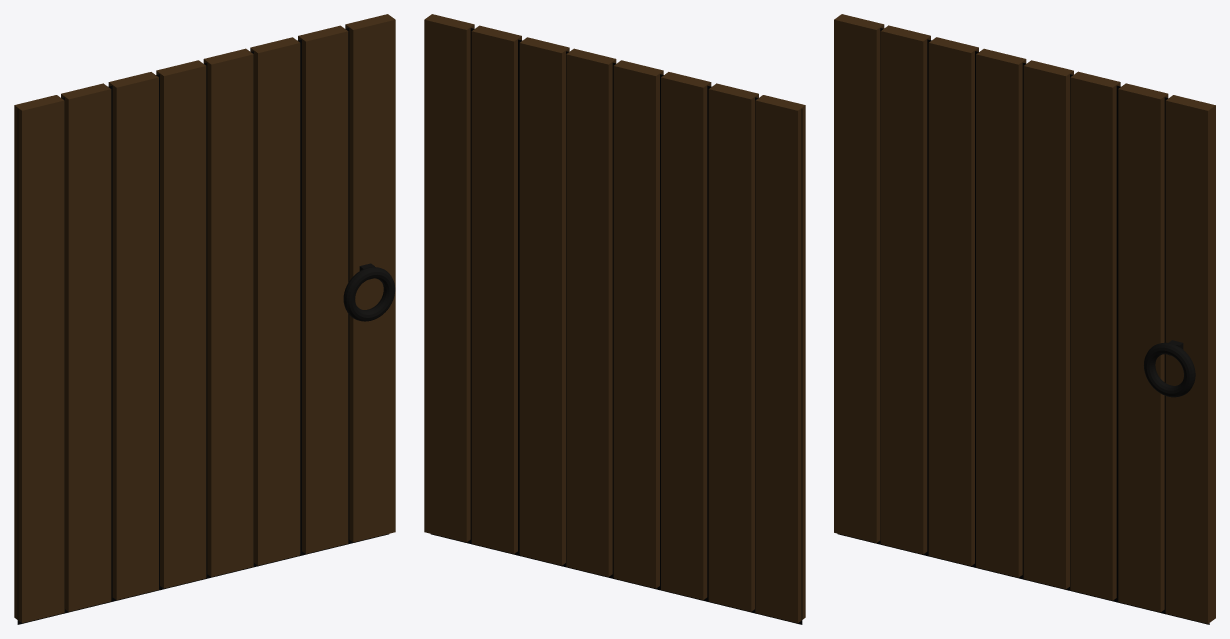
The model's file is Door.fbx.
The picture shows the model from 3 angles, left to right: view 1: azimuth 30°, elevation 25°; view 2: azimuth 150°, elevation 25°; view 3: azimuth 330°, elevation 25°; orthographic projection.
Parts seen in each view (by area): view 1: Cube.015, Cube, Cube.013, Cube.008, Cube.009, Cube.012, Cube.014, Cube.010, Cube.007, Cube.001, Cube.002, Cube.003 (+6 smaller); view 2: Cube.015, Cube, Cube.011, Cube.013, Cube.008, Cube.012, Cube.009, Cube.010, Cube.014, Cube.007, Cube.001, Cube.003 (+5 smaller); view 3: Cube.011, Cube.014, Cube.004, Cube.015, Cube.009, Cube.008, Cube.012, Cube.013, Cube.001, Cube.010, Cube.002, Cube.007 (+6 smaller).
Boxes of the visible parts, bbox=[...] form: Cube.015: bbox=[14, 95, 64, 366]; Cube: bbox=[14, 357, 64, 623]; Cube.013: bbox=[108, 72, 158, 343]; Cube.008: bbox=[203, 48, 253, 320]; Cube.009: bbox=[250, 37, 300, 309]; Cube.012: bbox=[156, 60, 206, 332]; Cube.014: bbox=[61, 83, 111, 355]; Cube.010: bbox=[298, 25, 348, 297]; Cube.007: bbox=[207, 310, 253, 576]; Cube.001: bbox=[65, 345, 111, 611]; Cube.002: bbox=[112, 333, 158, 600]; Cube.003: bbox=[160, 322, 206, 588]; Cube.015: bbox=[755, 95, 805, 366]; Cube: bbox=[755, 356, 805, 623]; Cube.011: bbox=[424, 14, 474, 286]; Cube.013: bbox=[661, 72, 711, 343]; Cube.008: bbox=[566, 48, 616, 320]; Cube.012: bbox=[613, 60, 663, 332]; Cube.009: bbox=[519, 37, 569, 309]; Cube.010: bbox=[471, 25, 521, 297]; Cube.014: bbox=[708, 83, 758, 355]; Cube.007: bbox=[566, 310, 612, 576]; Cube.001: bbox=[708, 345, 754, 611]; Cube.003: bbox=[613, 322, 659, 588]; Cube.011: bbox=[1165, 95, 1215, 367]; Cube.014: bbox=[880, 25, 930, 297]; Cube.004: bbox=[1165, 357, 1215, 623]; Cube.015: bbox=[834, 14, 884, 286]; Cube.009: bbox=[1070, 71, 1120, 344]; Cube.008: bbox=[1023, 60, 1073, 332]; Cube.012: bbox=[976, 48, 1026, 320]; Cube.013: bbox=[928, 37, 978, 309]; Cube.001: bbox=[880, 287, 927, 554]; Cube.010: bbox=[1118, 83, 1168, 355]; Cube.002: bbox=[928, 299, 974, 565]; Cube.007: bbox=[1023, 322, 1069, 589].
Bounding box in the file's own units: 753 × 995 × 58.35.
